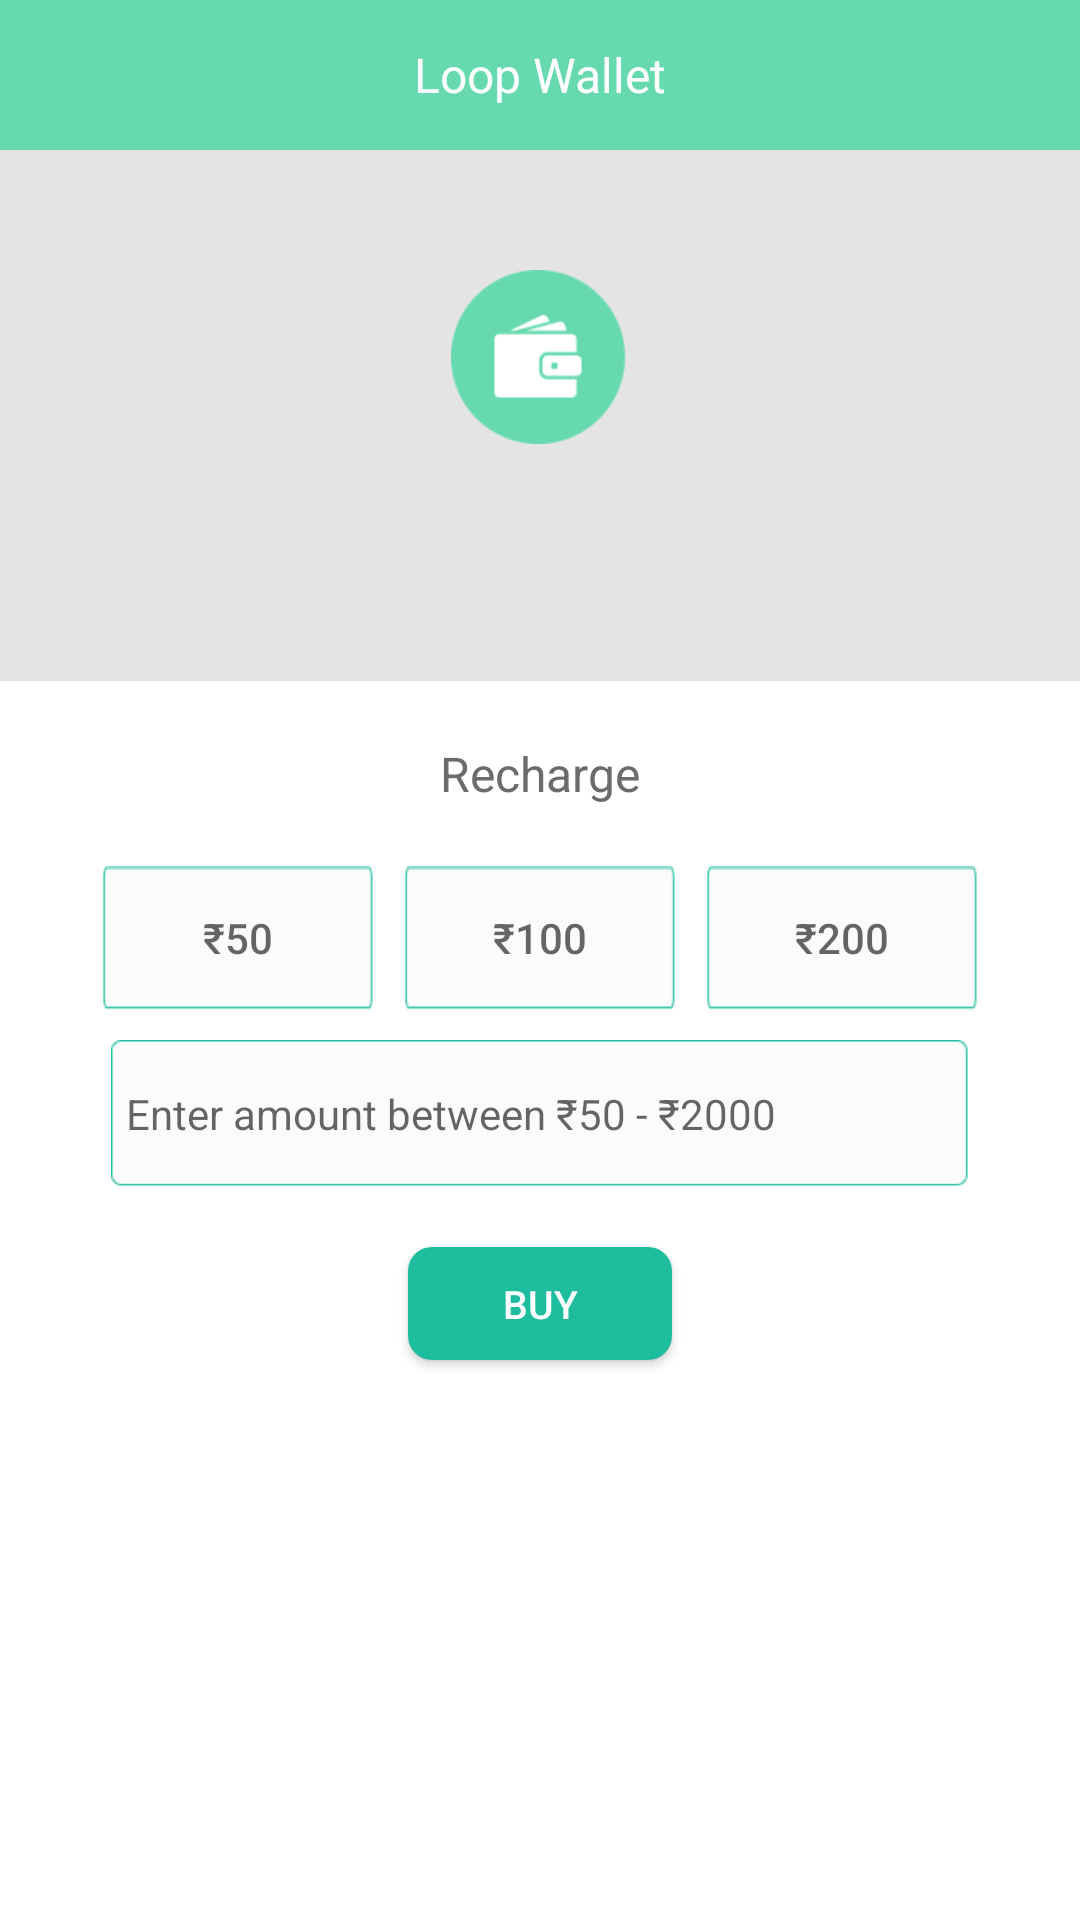

Icons on this 1080w x 1920h Android screen, each with the point to tap as [x,y]:
money: [538,357]
